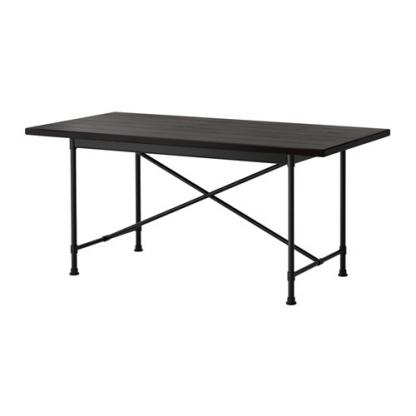Table: (20, 103, 397, 311)
